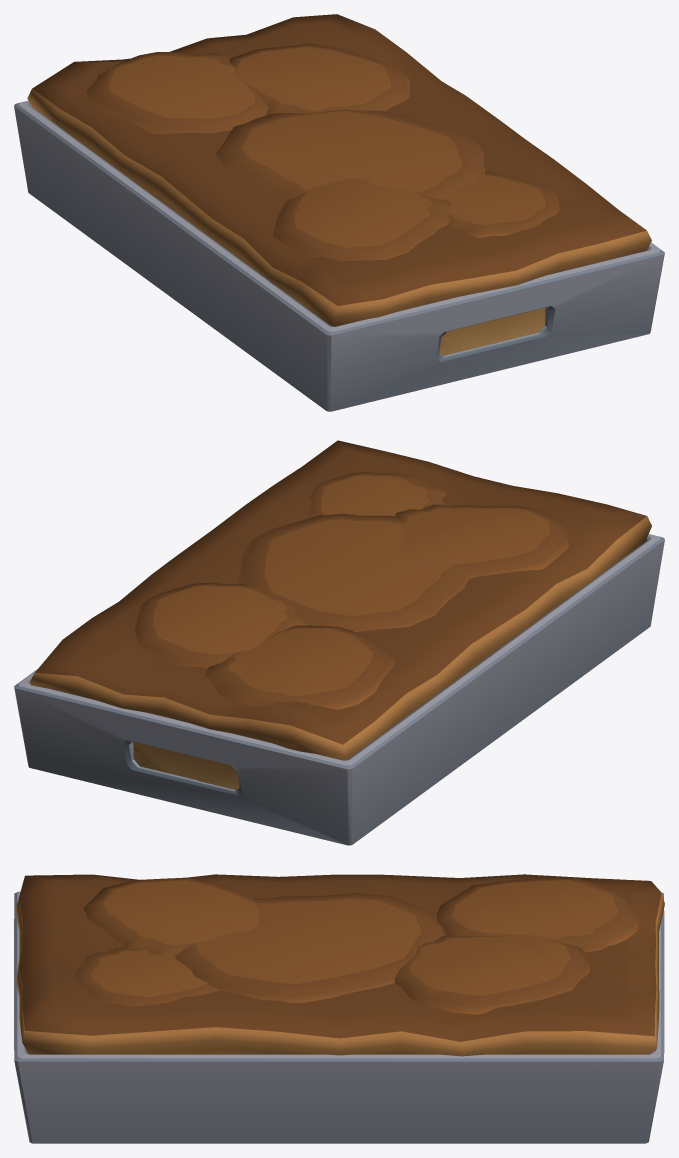
File: Cake_3_LV3.glb
The picture shows the model from 3 angles, top to bottom: view 1: azimuth 30°, elevation 25°; view 2: azimuth 150°, elevation 25°; view 3: azimuth 270°, elevation 25°; orthographic projection. The views are drawn at different scales.
Visible parts, largest first — view 1: Cake_3_LV3; view 2: Cake_3_LV3; view 3: Cake_3_LV3.
Boxes of the visible parts, bbox=[...] form: Cake_3_LV3: bbox=[14, 14, 664, 411]; Cake_3_LV3: bbox=[14, 440, 664, 845]; Cake_3_LV3: bbox=[14, 874, 664, 1143].
Size of the model in its own units: 0.3776 by 0.1274 by 0.6128.
1 material, 1 textured.
